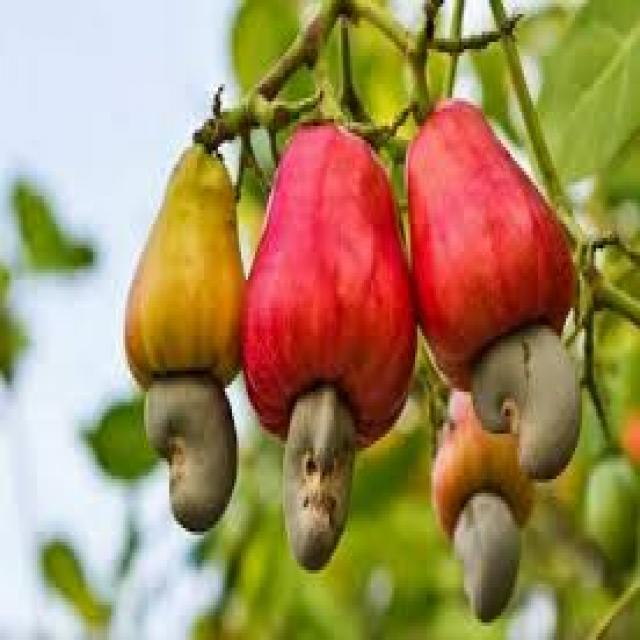Cashew: (264, 384, 370, 570), (136, 373, 242, 541), (477, 326, 610, 454), (447, 488, 527, 616)
